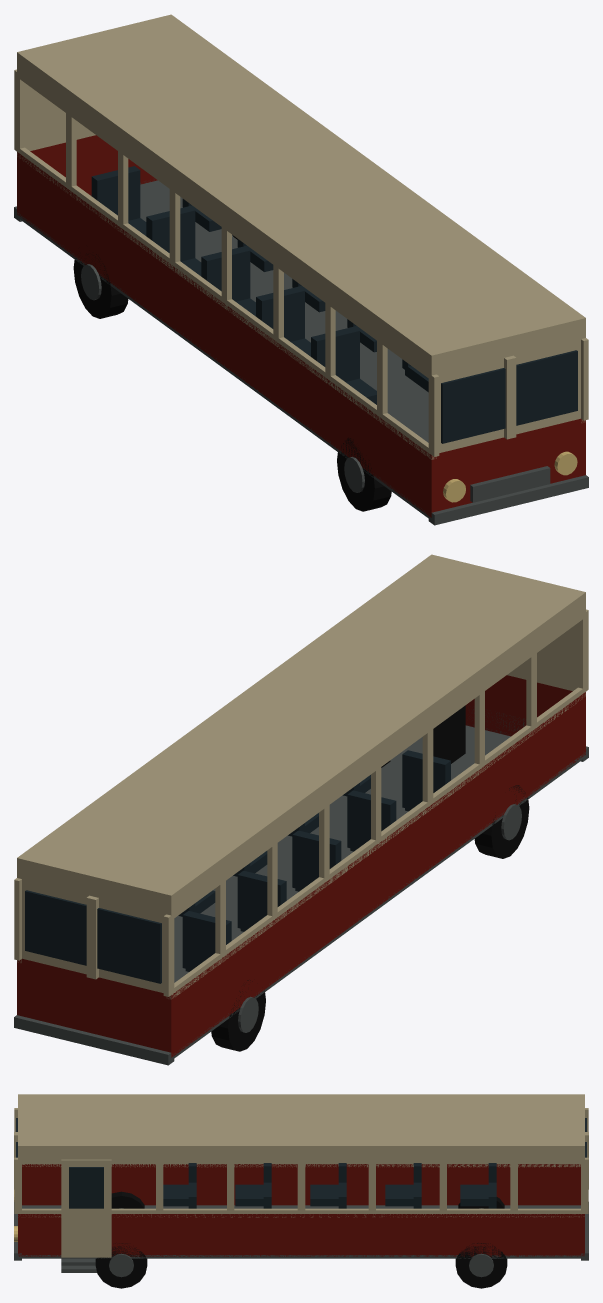
Rendered from postbus_seated.glb.
3 renders of one model, top to bottom at view 1: azimuth 30°, elevation 25°; view 2: azimuth 150°, elevation 25°; view 3: azimuth 270°, elevation 25°, orthographic. The views are drawn at different scales.
Parts seen in each view (by area): view 1: postbus_seated; view 2: postbus_seated; view 3: postbus_seated.
Part boxes in pixels (left/top/right/bottom): postbus_seated: left=14, top=14, right=588, bottom=525; postbus_seated: left=14, top=554, right=588, bottom=1065; postbus_seated: left=14, top=1094, right=588, bottom=1288.
Bounding box in the file's own units: 2.56 × 3.15 × 11.5.
